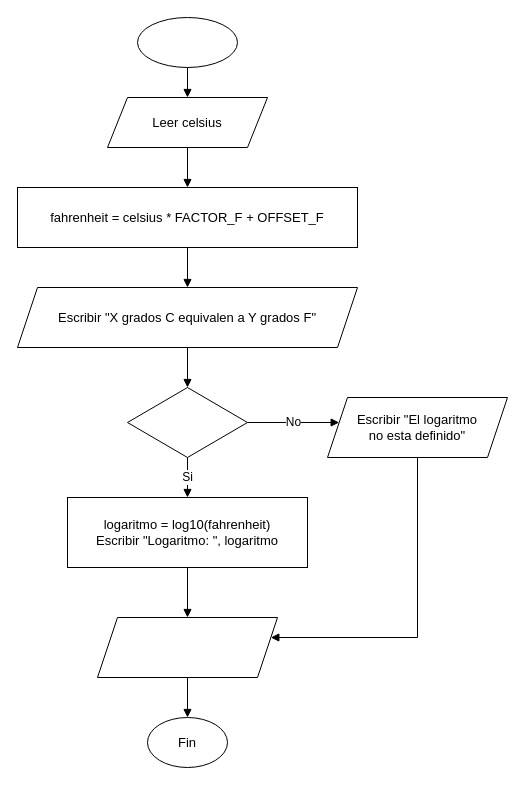
Image size: 525x785. Some labels were removed from this diagram. Each missing label, with the box of its shape:
Escribir FACTOR_F Escribir OFFSET_F: (96, 616, 278, 678)
fahrenheit > 0: (126, 386, 248, 458)
Inicio: (136, 16, 238, 68)
